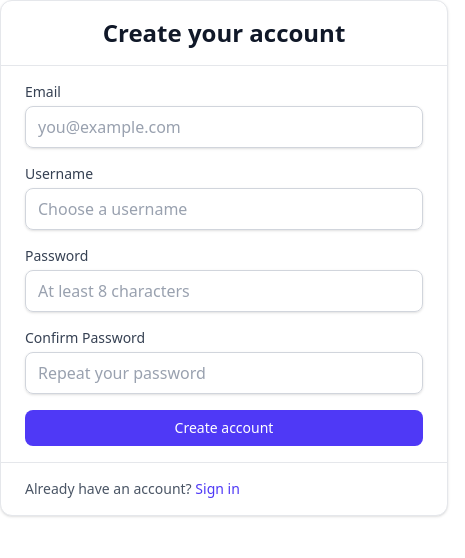
Test: RegisterPage › validates short password
The width and height of the screenshot is (465, 558).
Type "test@example.com" into the field labelled "Email" at (224, 127), box x1=25 y1=106 x2=423 y2=148
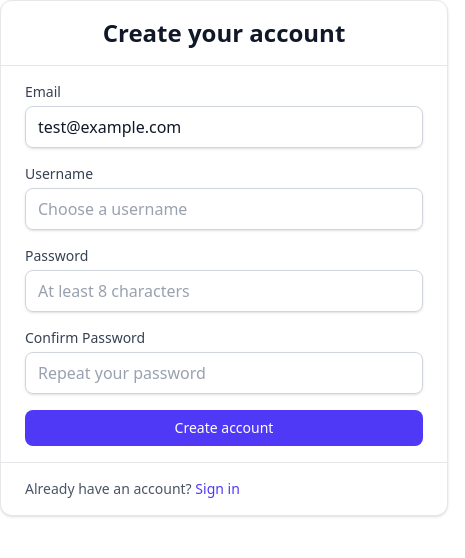
Type "testuser" into the field labelled "Username" at (224, 209), box x1=25 y1=188 x2=423 y2=230
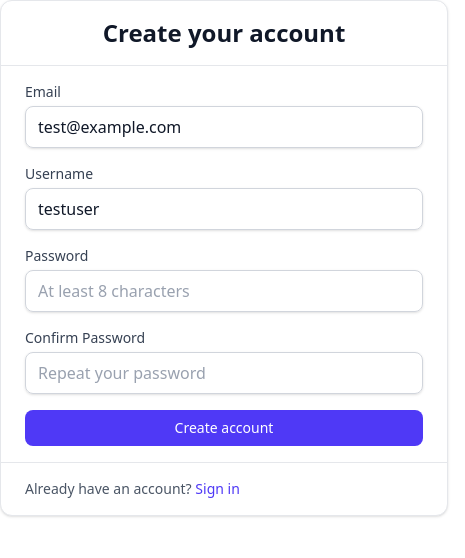
Type "short" into the password field labelled "Password" at (224, 291), box x1=25 y1=270 x2=423 y2=312
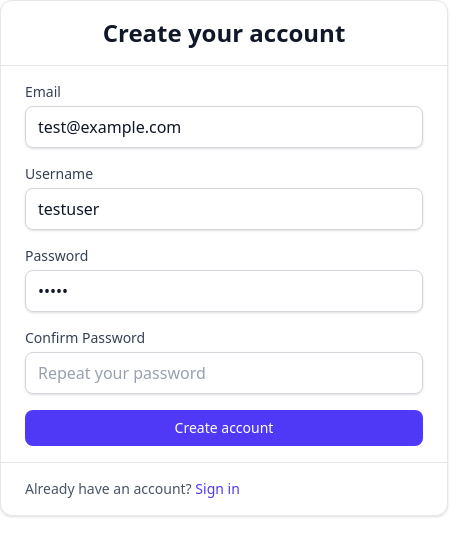
Type "short" into the password field labelled "Confirm Password" at (224, 373), box x1=25 y1=352 x2=423 y2=394
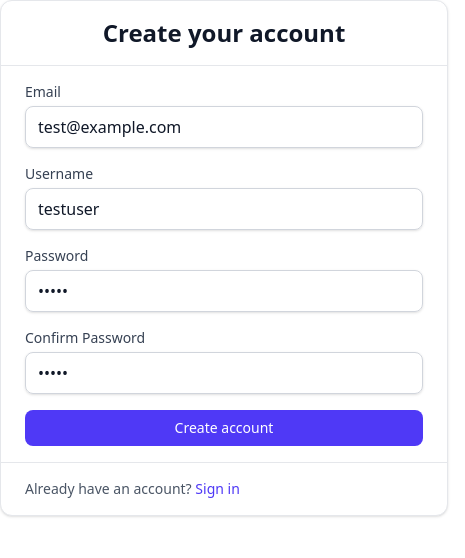
Click the button "Create account" at (224, 428), box x1=25 y1=410 x2=423 y2=446
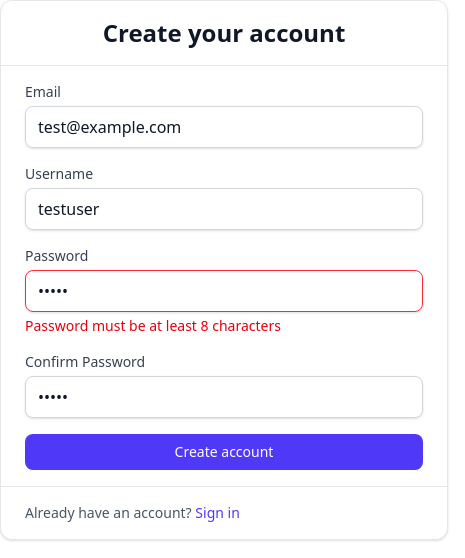
Result: the text "Password must be at least 8 characters" is shown at x1=25 y1=316 x2=281 y2=335
